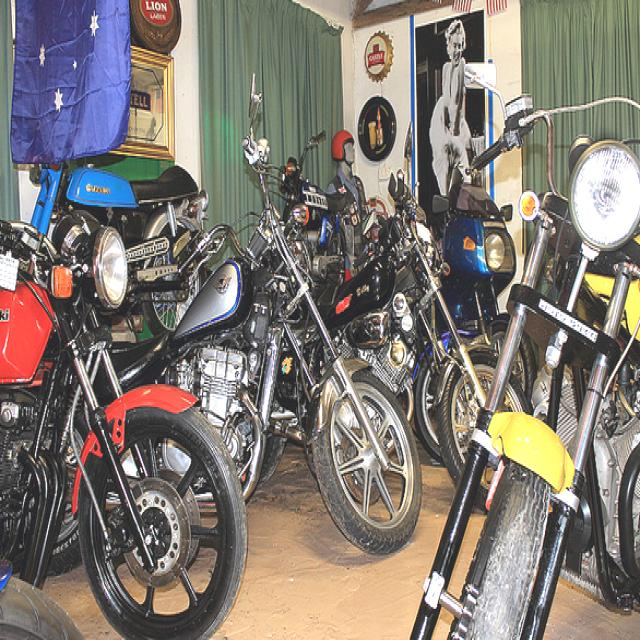Vehicle: (113, 74, 431, 548), (403, 59, 640, 640), (0, 213, 248, 640), (321, 173, 501, 485), (431, 165, 516, 347), (288, 133, 358, 287), (0, 576, 95, 640)
